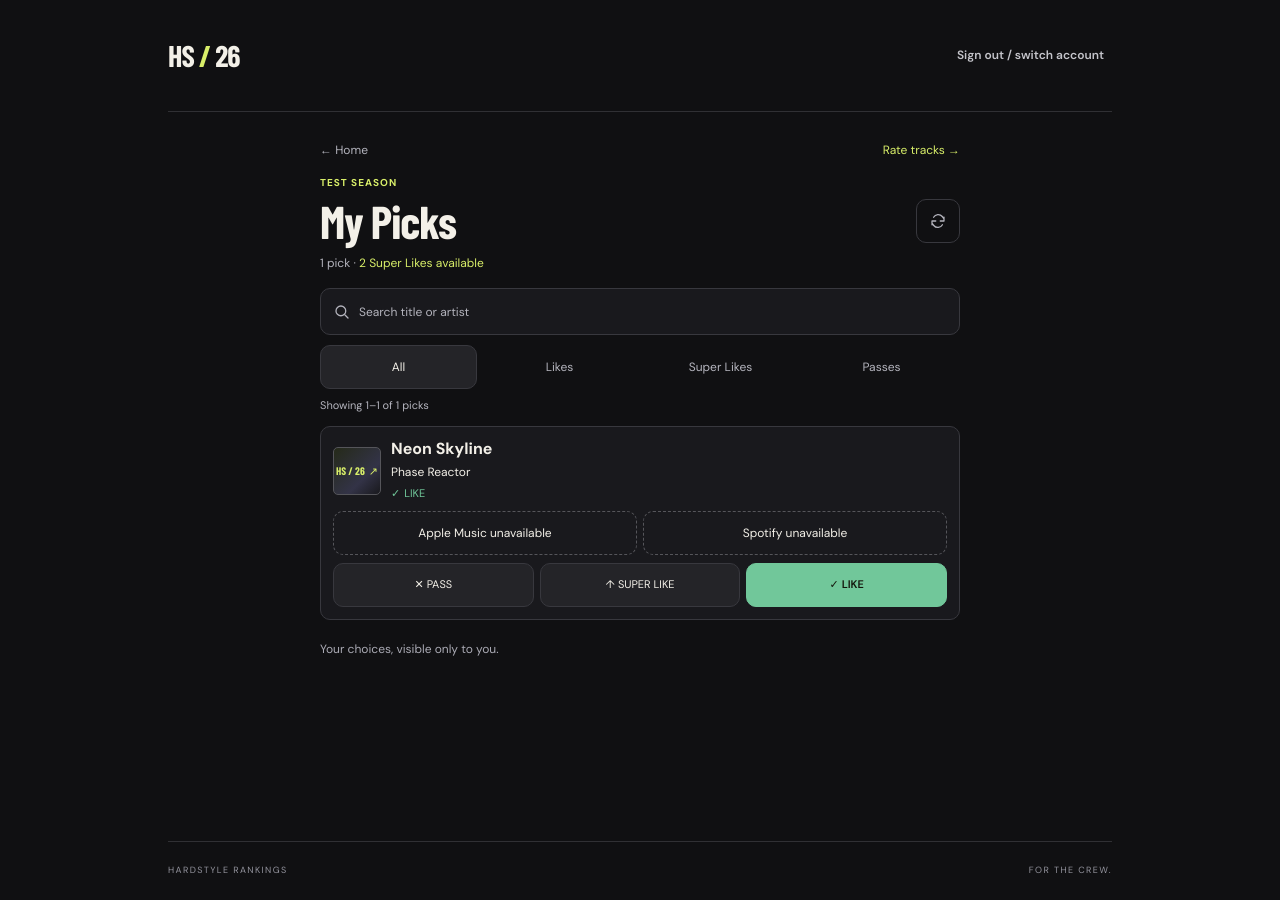
My Picks › edits LIKE to SUPER_LIKE using current version and authoritative allowance
This screenshot has width=1280, height=900.
Expected: the element "Neon Skyline" is shown, [320, 426, 960, 620]
Click the button "↑ SUPER LIKE" at [640, 585], box [540, 563, 740, 607]
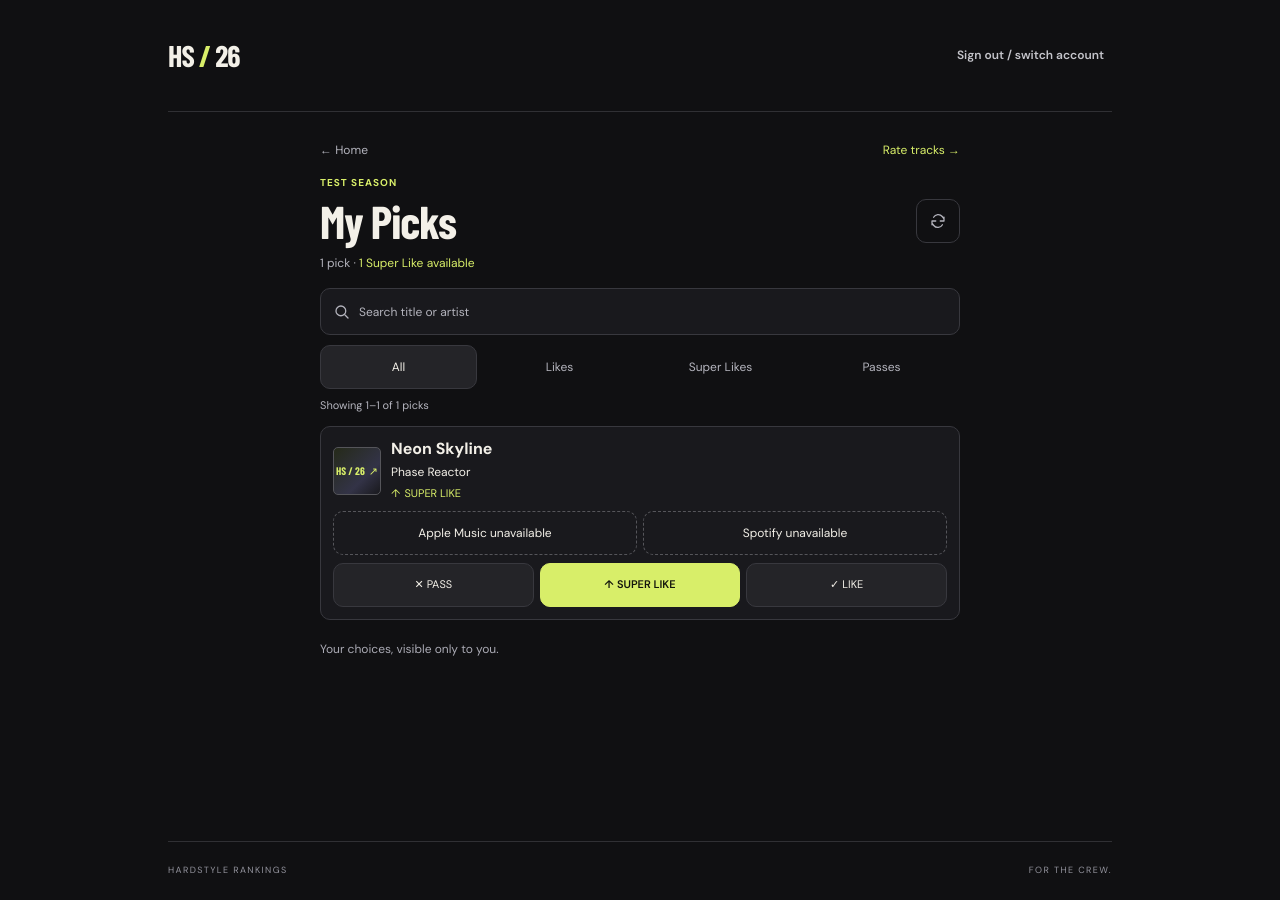
Expected: the text "SUPER LIKE" is shown, [404, 486, 461, 500]
